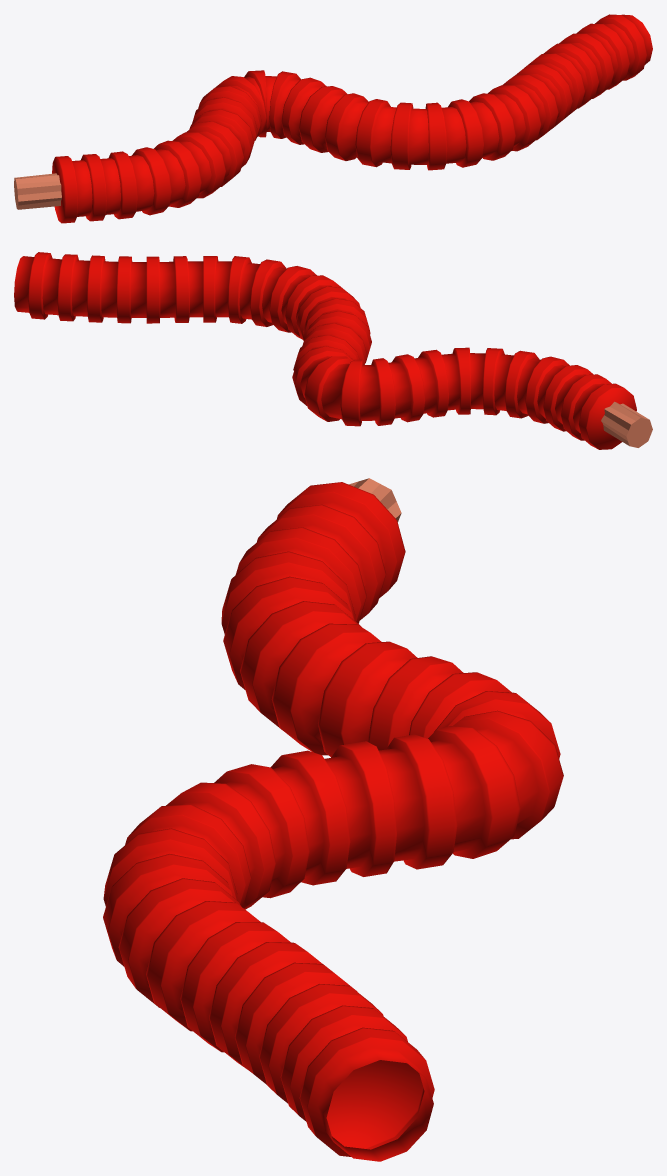
The model's file is PositiveWire_02.fbx.
3 renders of one model, top to bottom at view 1: azimuth 30°, elevation 25°; view 2: azimuth 150°, elevation 25°; view 3: azimuth 270°, elevation 25°, orthographic. The views are drawn at different scales.
Parts seen in each view (by area): view 1: Plane.014; view 2: Plane.014; view 3: Plane.014.
Part boxes in pixels (box(x1,y1,x2,y2)): Plane.014: box(14, 14, 652, 223); Plane.014: box(14, 252, 652, 449); Plane.014: box(103, 478, 563, 1161).
Bounding box in the file's own units: 310 × 28.59 × 98.28.
